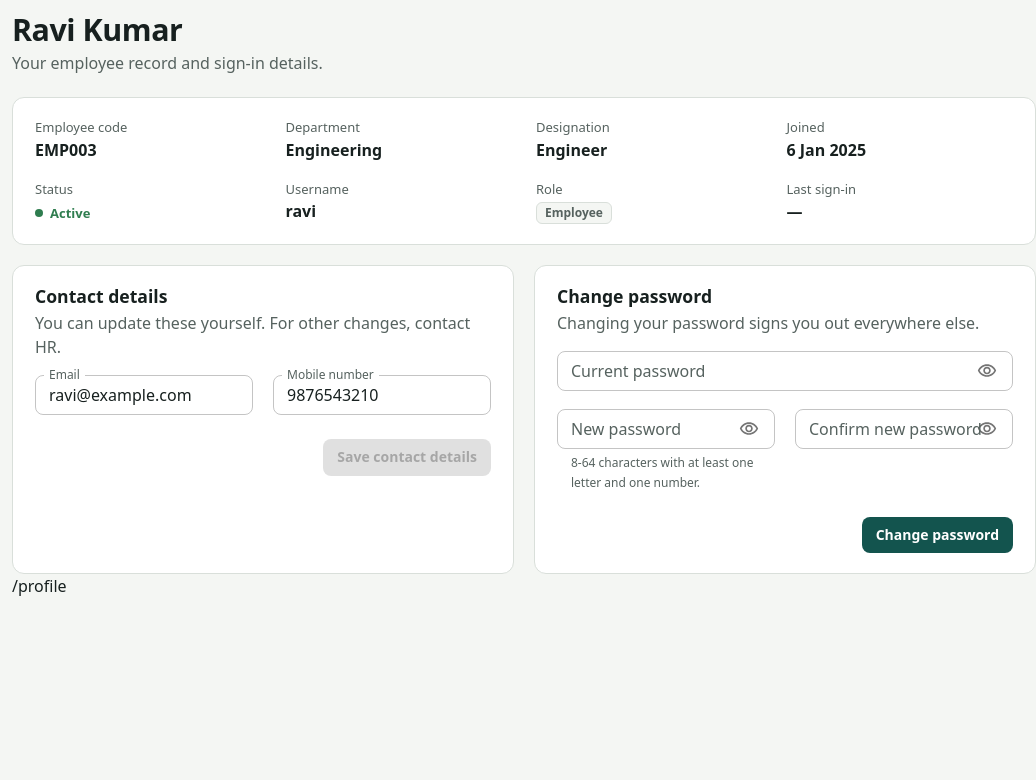
Test: ProfilePage › changes the password and keeps the user signed in with the new session
The image size is (1036, 780).
Expected: the button "Change password" is shown, [862,517,1013,553]
In the password field labelled "Current password": (760, 371) [557,351,964,391], type "OldPass123"
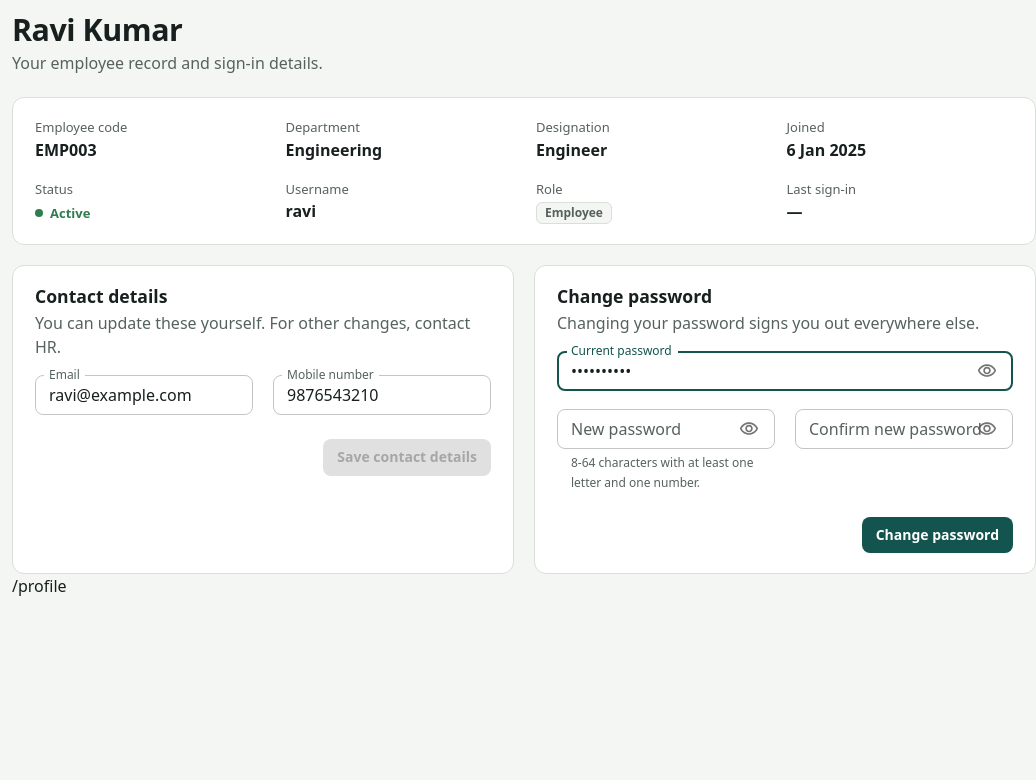
In the password field labelled "New password": (642, 429) [557,409,726,449], type "NewPass123"
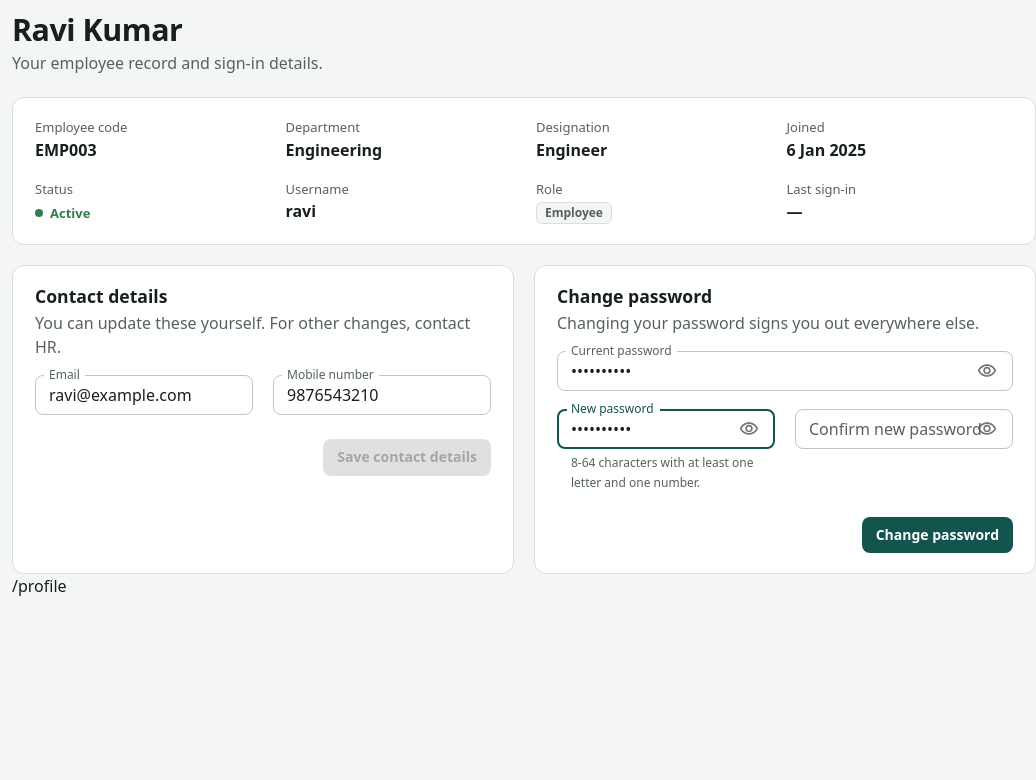
In the password field labelled "Confirm new password": (880, 429) [795,409,964,449], type "NewPass123"
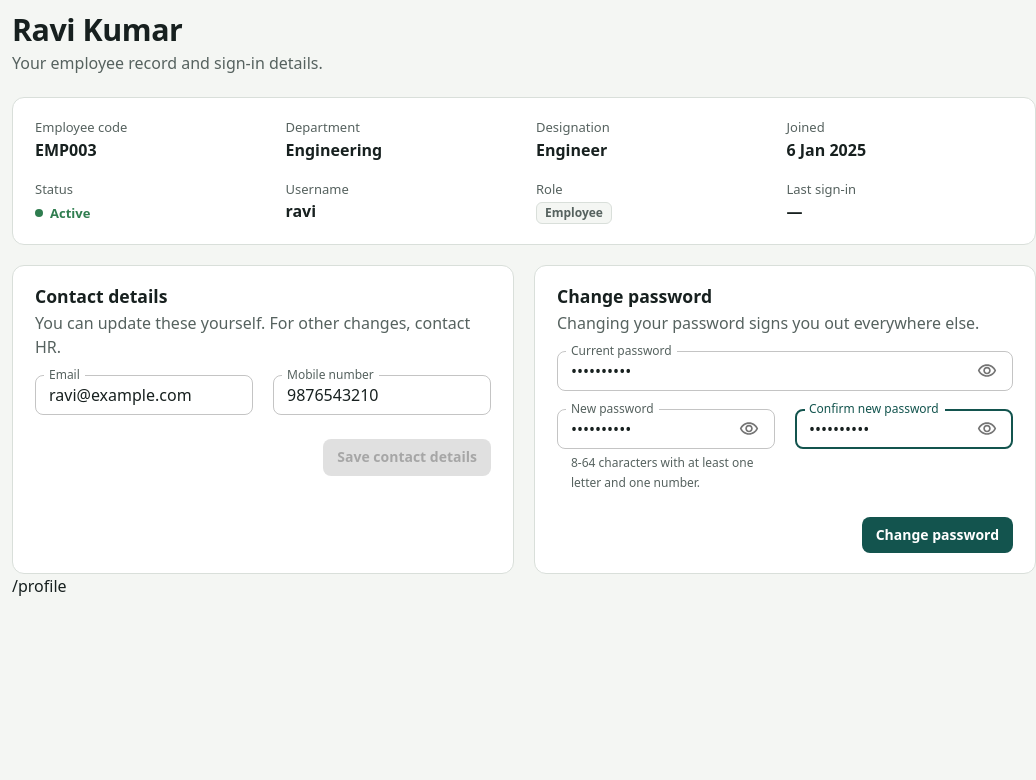
Click the button "Change password": (937, 535) [862,517,1013,553]
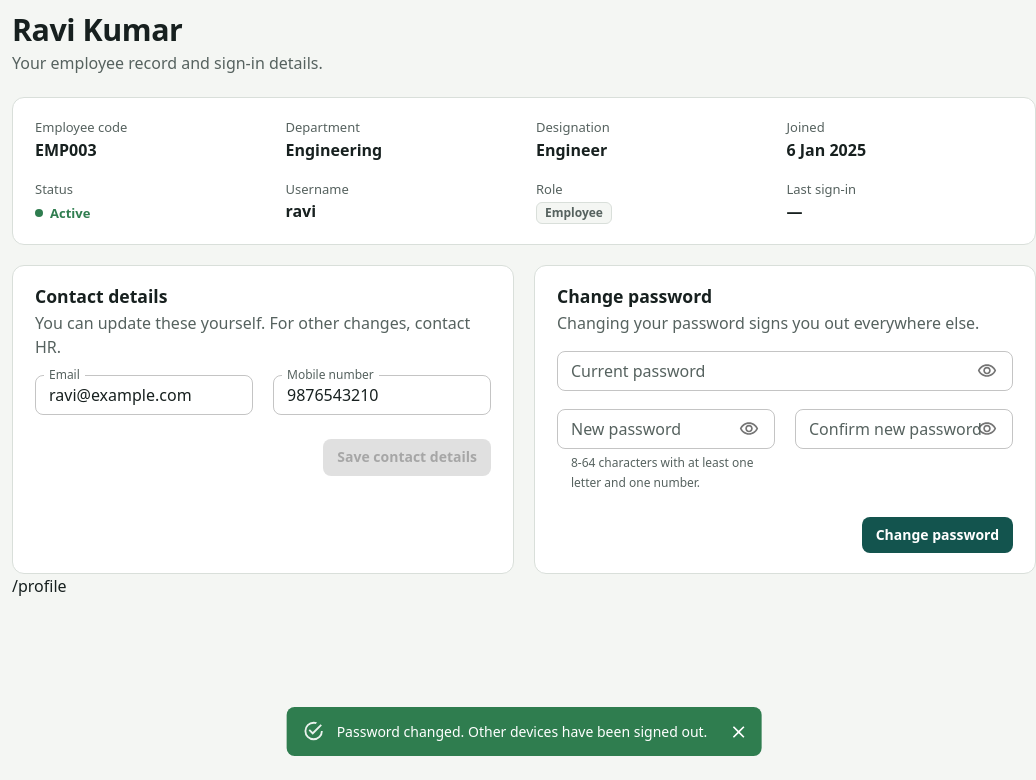
Expected: the text "Password changed. Other devices have been signed out." is shown, [337,722,707,741]
